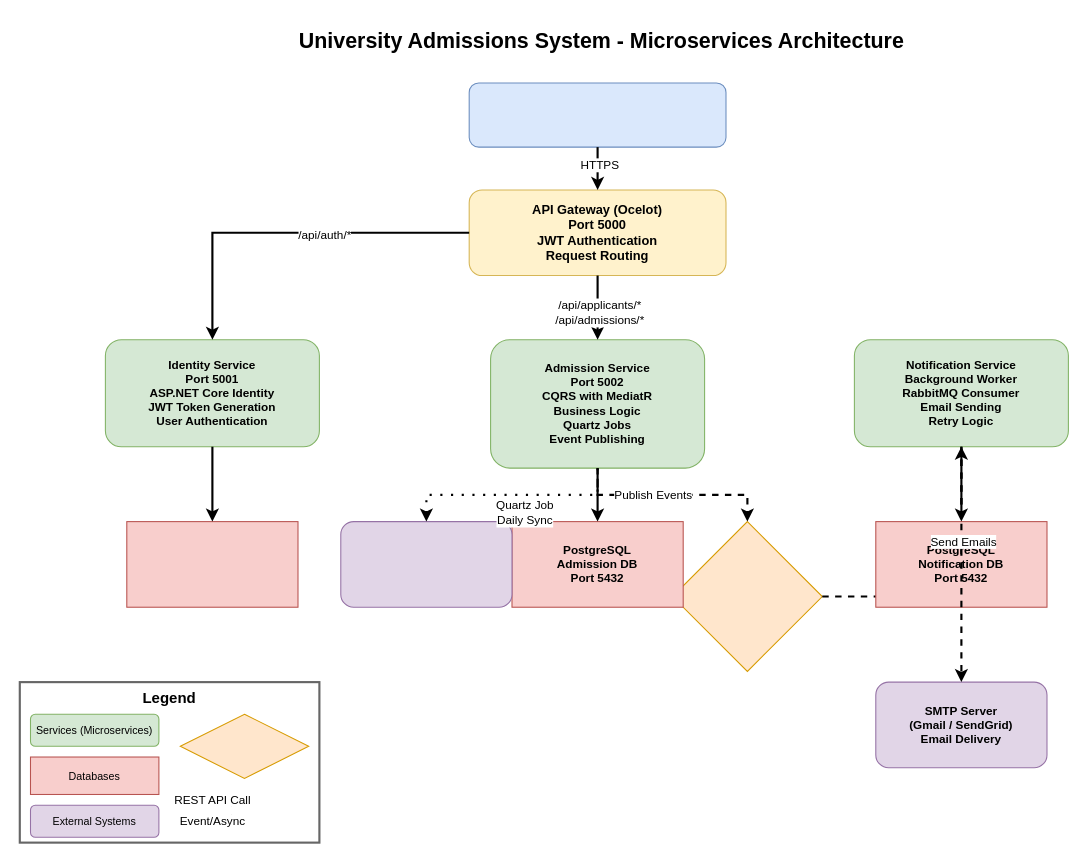
The diagram is 1087 pixels wide and 861 high, and some of its shapes have lost their labels. Each missing label, with the centre of its shape:
External API (Mock Dictionary Service) Faculty & Programs Data: the point at 426,564
Message Queue: the point at 244,745
PostgreSQL Identity DB Port 5432: the point at 212,564
RabbitMQ Message Broker Event Bus: the point at 746,596
Web Client / Mobile App: the point at 597,114
